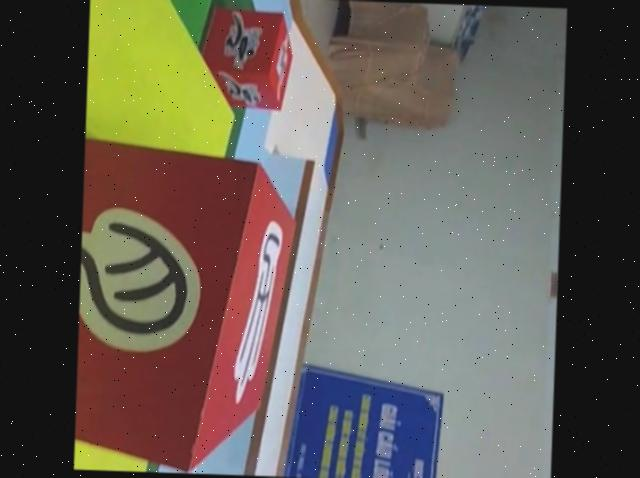R1: (189, 4, 294, 113)
R2 Fake: (73, 130, 304, 475)
